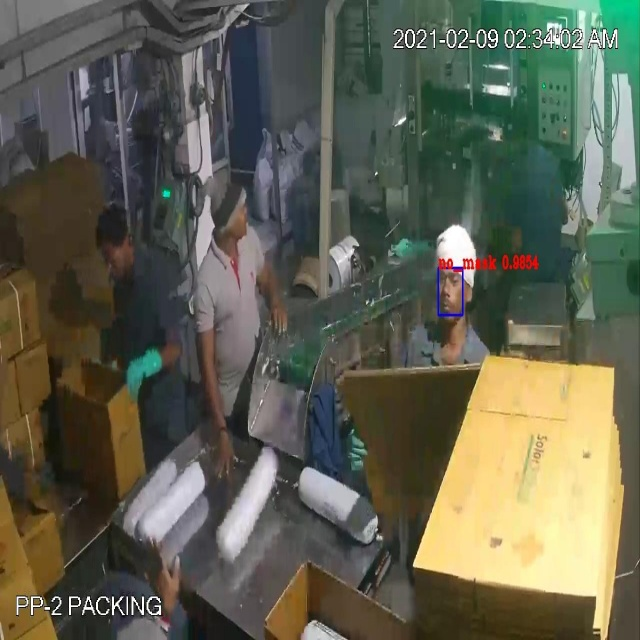Guantes: (114, 342, 168, 409)
Sin_guantes: (180, 307, 236, 491), (134, 514, 201, 623), (252, 239, 293, 354)
